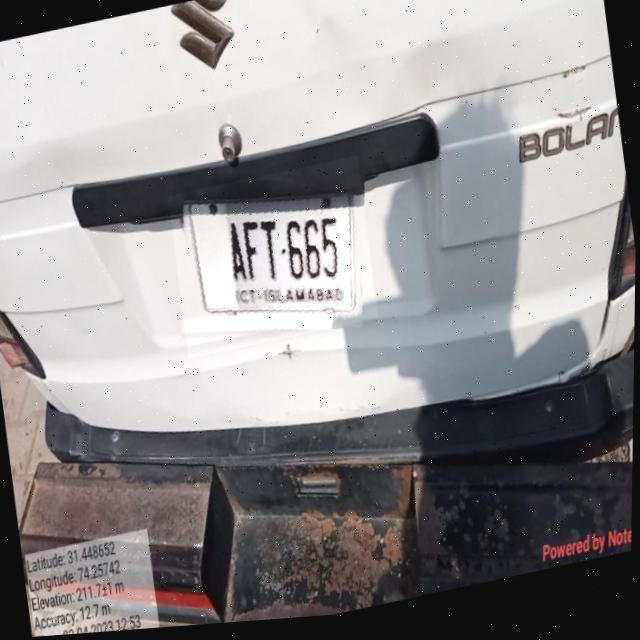LicensePlate: (167, 160, 381, 363)
